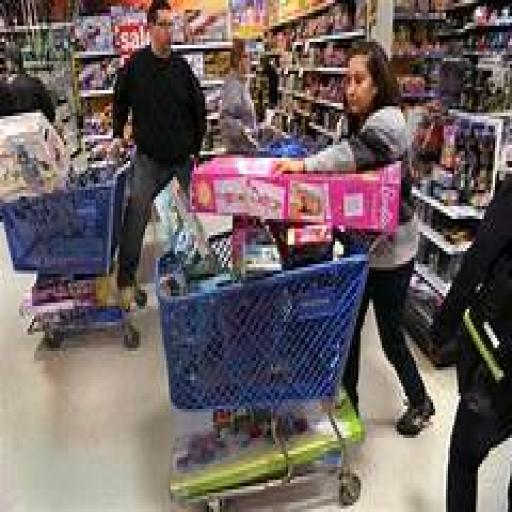shopping_cart: (154, 239, 382, 512), (2, 157, 144, 350)
